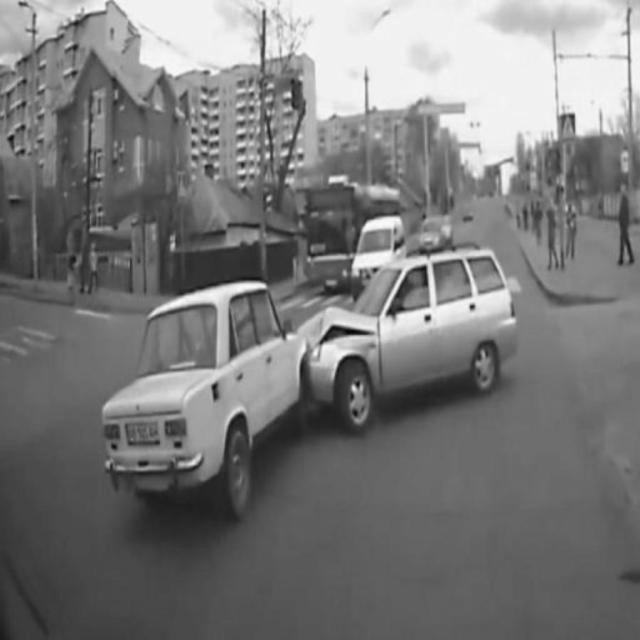accident: (103, 250, 516, 521)
person: (611, 177, 640, 267), (541, 203, 566, 270)
vehicle: (354, 219, 406, 292)
